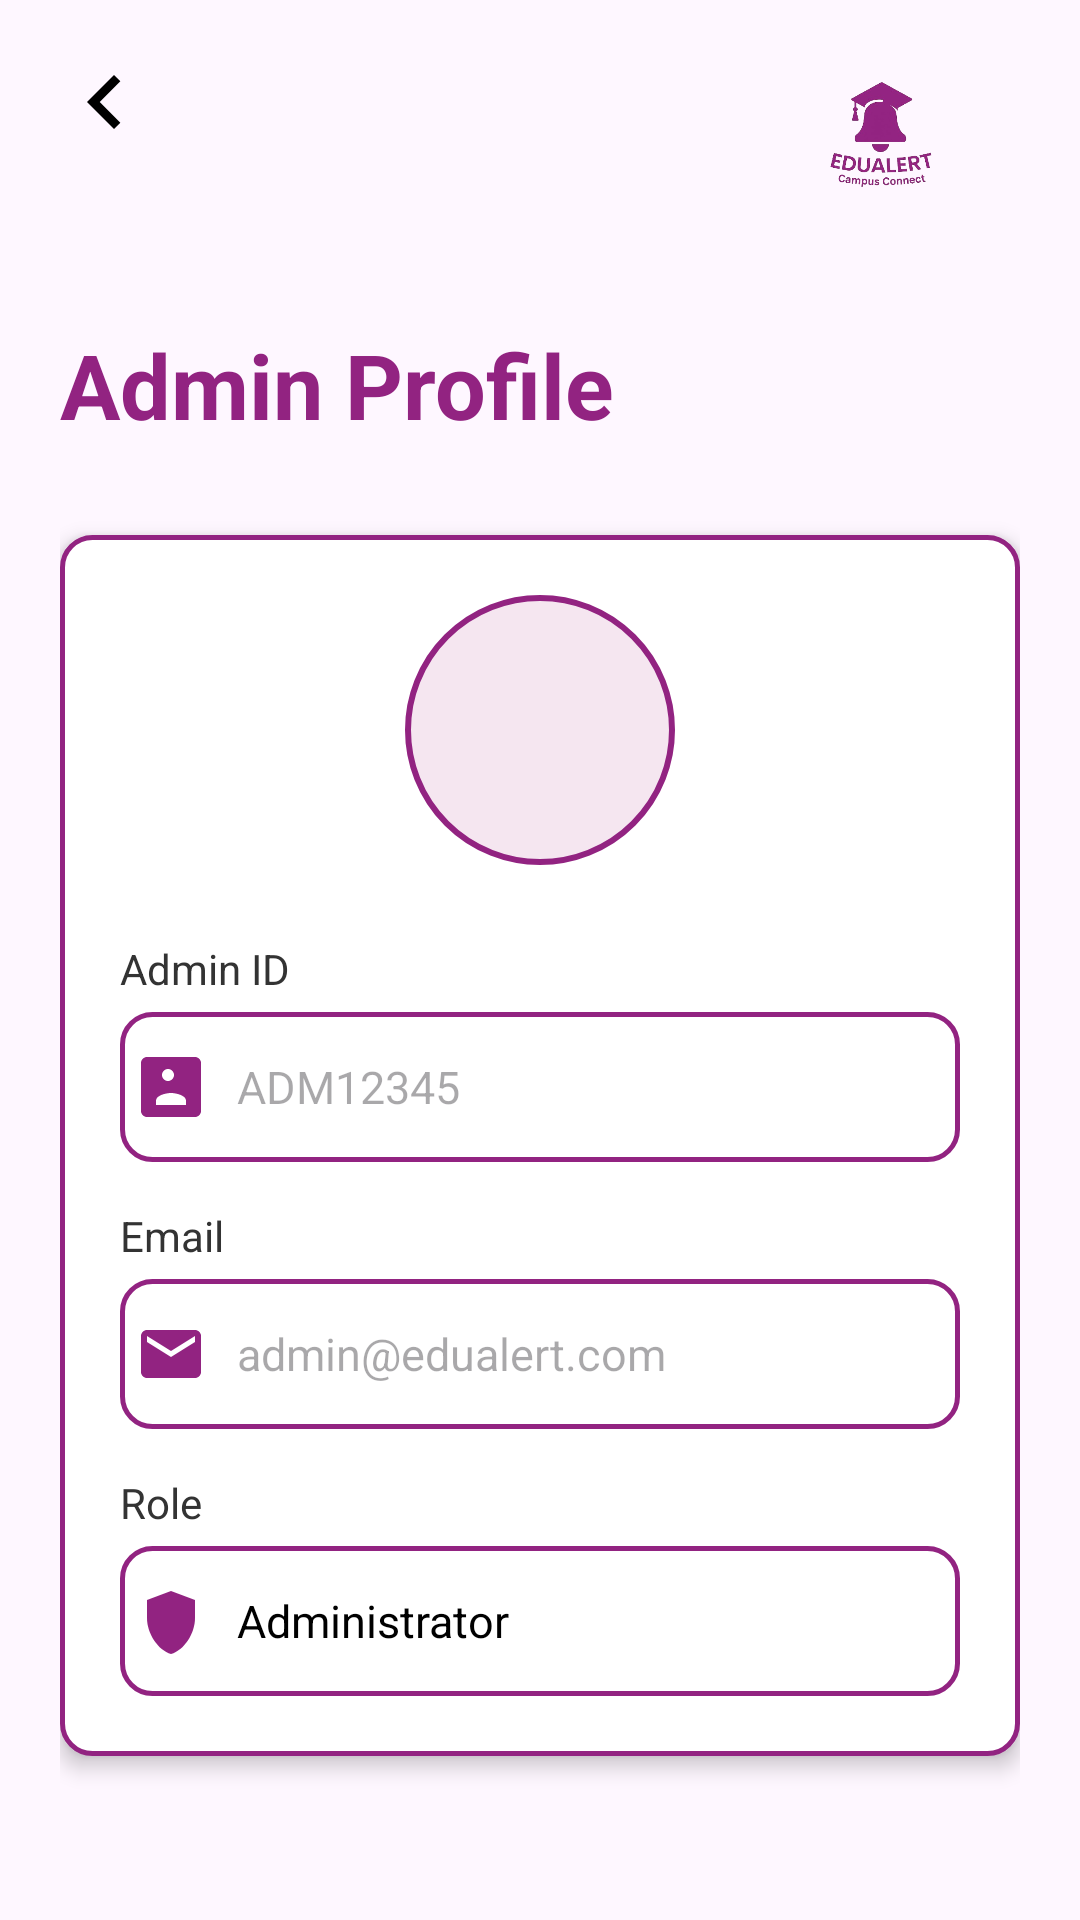

Screen size 1080*1920. Icon name, then its center in pixels as (x=x, y=y):
Back: (x=104, y=102)
